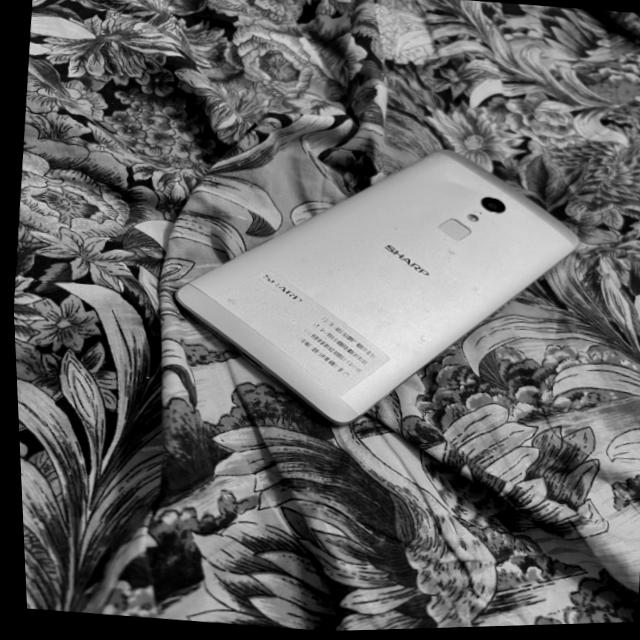Smartphone: (172, 153, 577, 427)
